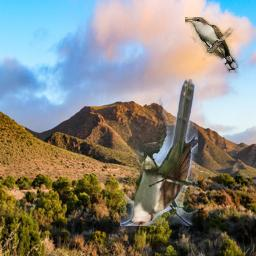Cuckoo: (120, 79, 198, 226), (185, 17, 239, 73)
